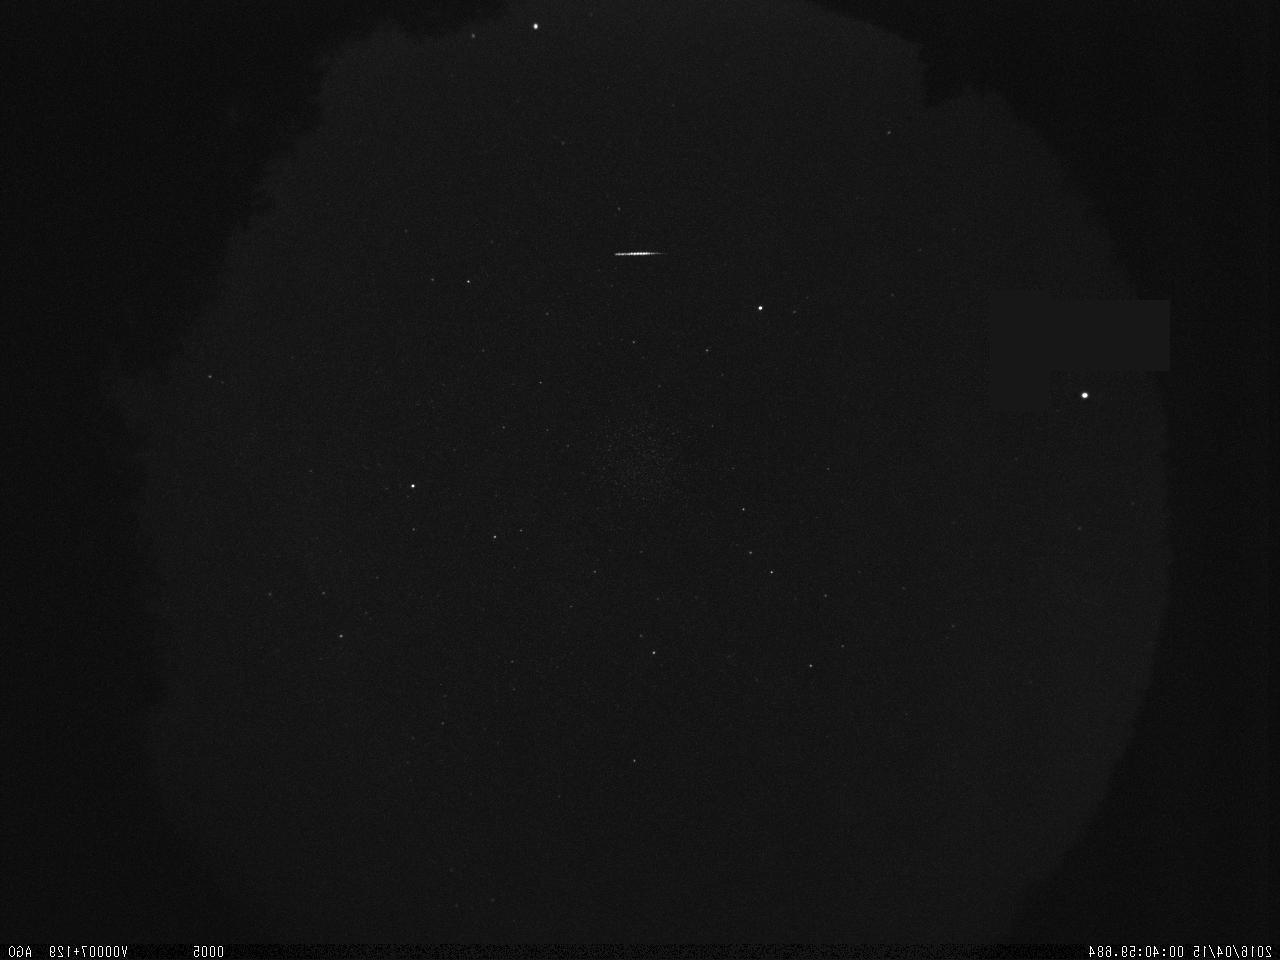meteor: (583, 231, 665, 279)
